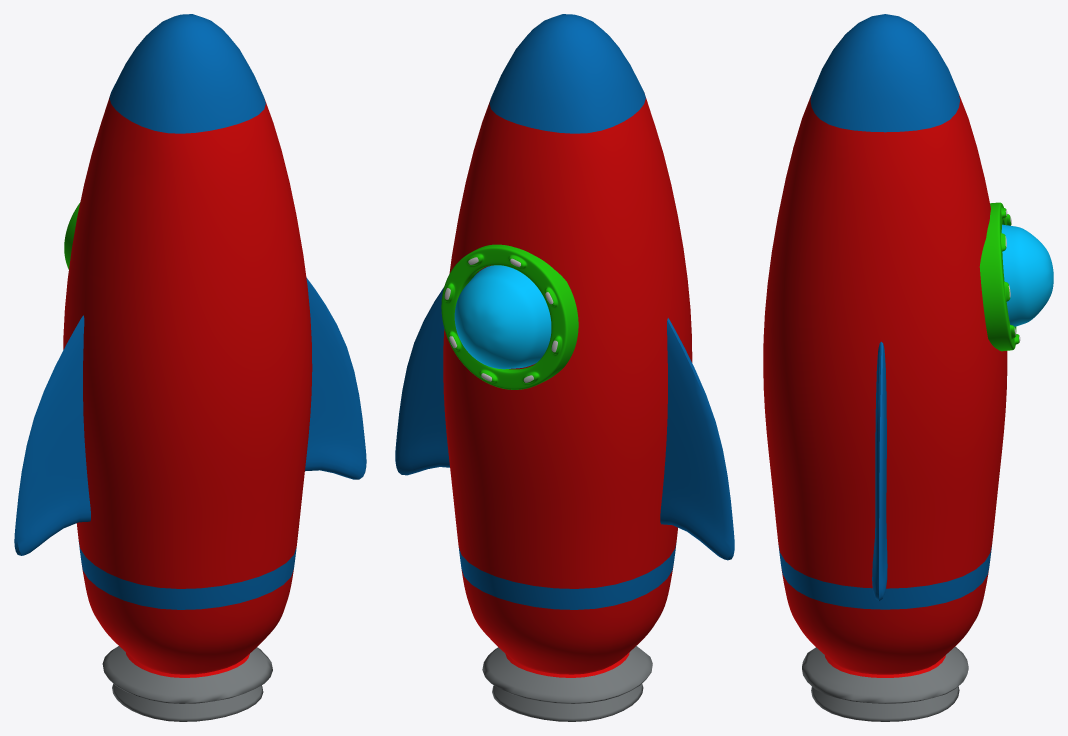
File: Red Ship.fbx
3 renders of one model, left to right at view 1: azimuth 30°, elevation 25°; view 2: azimuth 150°, elevation 25°; view 3: azimuth 270°, elevation 25°, orthographic.
Parts seen in each view (by area): view 1: Cube, Fins; view 2: Cube, Fins, Window; view 3: Cube, Window, Fins.
Boxes of the visible parts, bbox=[...] form: Cube: bbox=[63, 14, 312, 721]; Fins: bbox=[14, 277, 366, 555]; Cube: bbox=[443, 14, 692, 721]; Fins: bbox=[395, 287, 734, 560]; Window: bbox=[441, 244, 578, 389]; Cube: bbox=[763, 14, 1007, 721]; Window: bbox=[979, 202, 1053, 351]; Fins: bbox=[872, 341, 887, 600].
Size of the model in its own units: 303 by 563 by 220.
